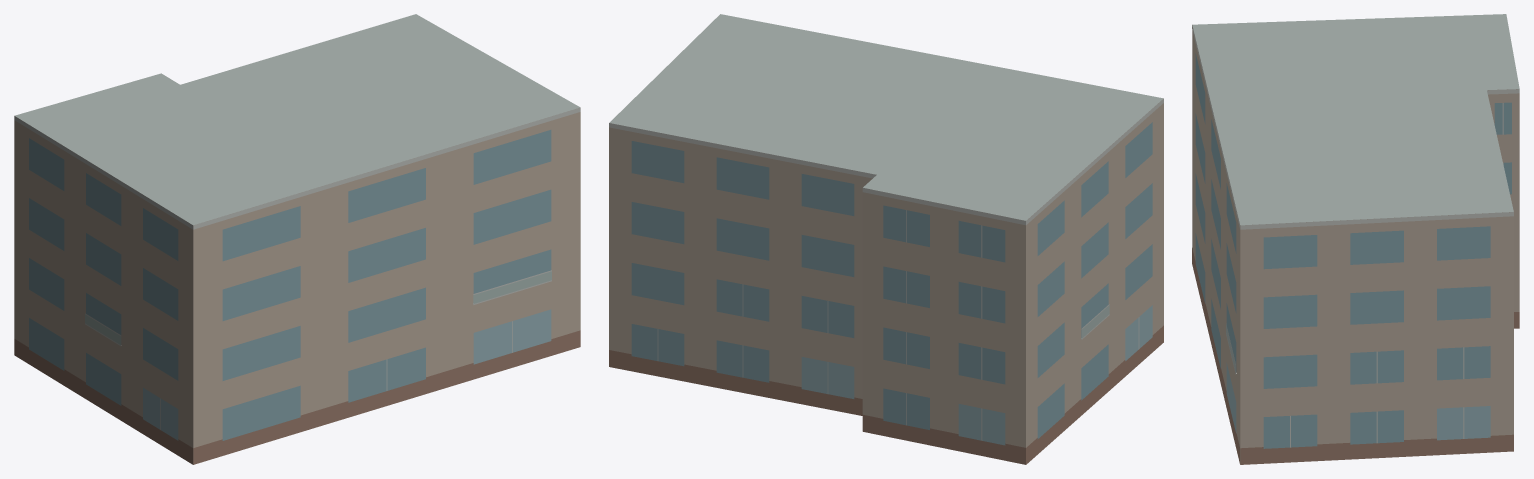
The model's file is survey-upis-32610746.glb.
The picture shows the model from 3 angles, left to right: view 1: azimuth 30°, elevation 25°; view 2: azimuth 150°, elevation 25°; view 3: azimuth 270°, elevation 25°; orthographic projection.
Parts seen in each view (by area): view 1: survey-upis-32610746.tmp; view 2: survey-upis-32610746.tmp; view 3: survey-upis-32610746.tmp.
Part boxes in pixels (bbox=[...]): survey-upis-32610746.tmp: bbox=[14, 14, 580, 464]; survey-upis-32610746.tmp: bbox=[609, 14, 1163, 464]; survey-upis-32610746.tmp: bbox=[1192, 14, 1519, 464].
Size of the model in its own units: 25.18 by 13.3 by 16.49.
